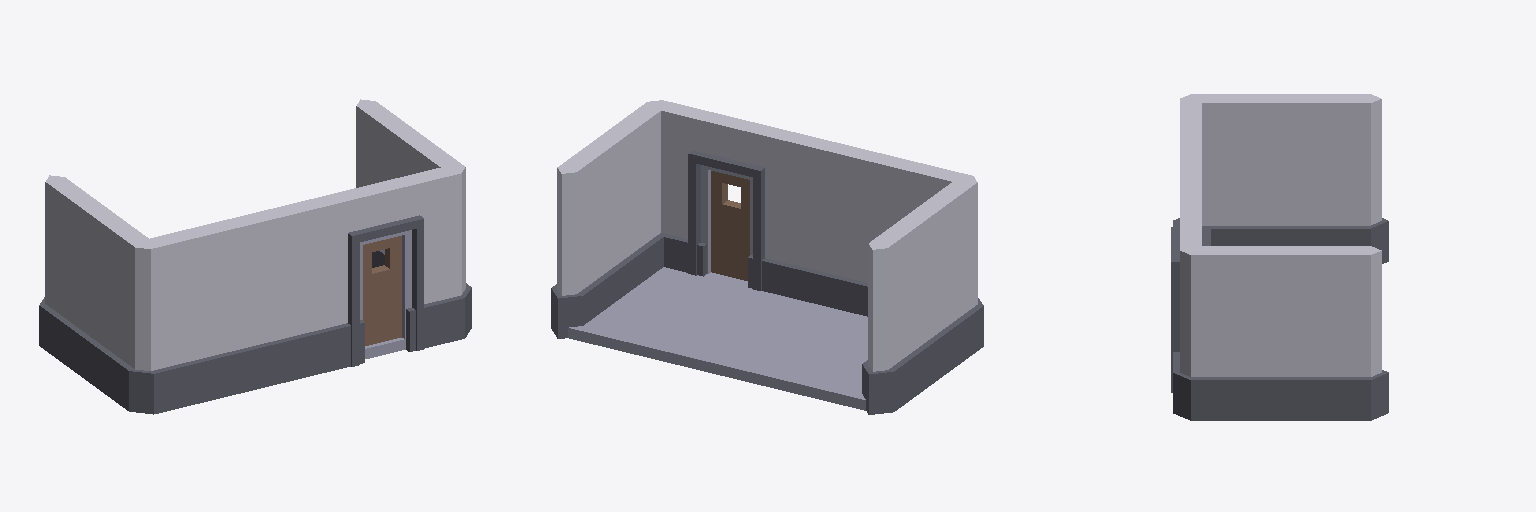
File: hallway_end_06.obj
3 renders of one model, left to right at view 1: azimuth 30°, elevation 25°; view 2: azimuth 150°, elevation 25°; view 3: azimuth 270°, elevation 25°, orthographic.
Parts seen in each view (by area): view 1: corner_01_92, door_02_94, wall_01_93; view 2: corner_01_92, floor_04_90, door_02_94, wall_01_93; view 3: wall_01_93, corner_01_92, door_02_94.
Boxes of the visible parts, x1=… form: corner_01_92: x1=39, y1=175, x2=311, y2=414; door_02_94: x1=291, y1=165, x2=471, y2=375; wall_01_93: x1=356, y1=99, x2=471, y2=335; corner_01_92: x1=803, y1=138, x2=983, y2=414; floor_04_90: x1=568, y1=267, x2=867, y2=410; door_02_94: x1=648, y1=100, x2=821, y2=300; wall_01_93: x1=551, y1=100, x2=666, y2=338; wall_01_93: x1=1173, y1=246, x2=1388, y2=420; corner_01_92: x1=1173, y1=94, x2=1388, y2=263; door_02_94: x1=1171, y1=170, x2=1210, y2=419.
Size of the model in its own units: 2.21 by 1 by 1.22.